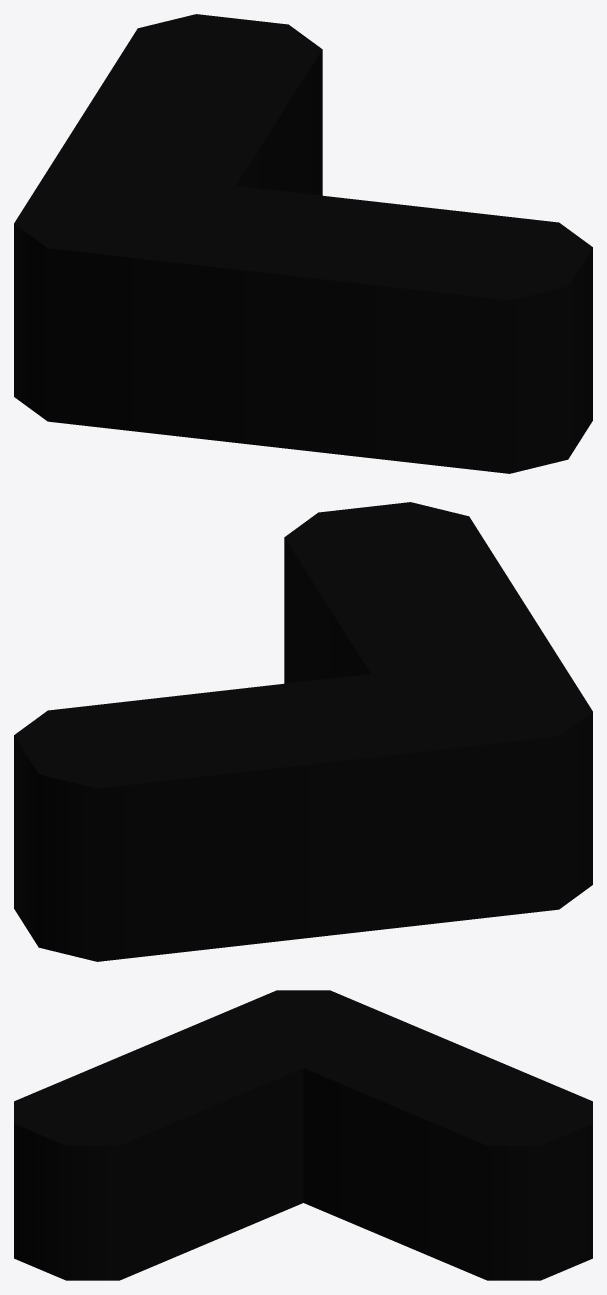
File: arrow-basic-rounded.obj
The picture shows the model from 3 angles, top to bottom: view 1: azimuth 30°, elevation 25°; view 2: azimuth 150°, elevation 25°; view 3: azimuth 270°, elevation 25°; orthographic projection. The views are drawn at different scales.
Parts seen in each view (by area): view 1: arrow-basic-rounded; view 2: arrow-basic-rounded; view 3: arrow-basic-rounded.
Boxes of the visible parts, x1=… form: arrow-basic-rounded: x1=14, y1=14, x2=592, y2=473; arrow-basic-rounded: x1=14, y1=502, x2=592, y2=961; arrow-basic-rounded: x1=14, y1=990, x2=592, y2=1280.
Size of the model in its own units: 0.495 by 0.2 by 0.7778.
